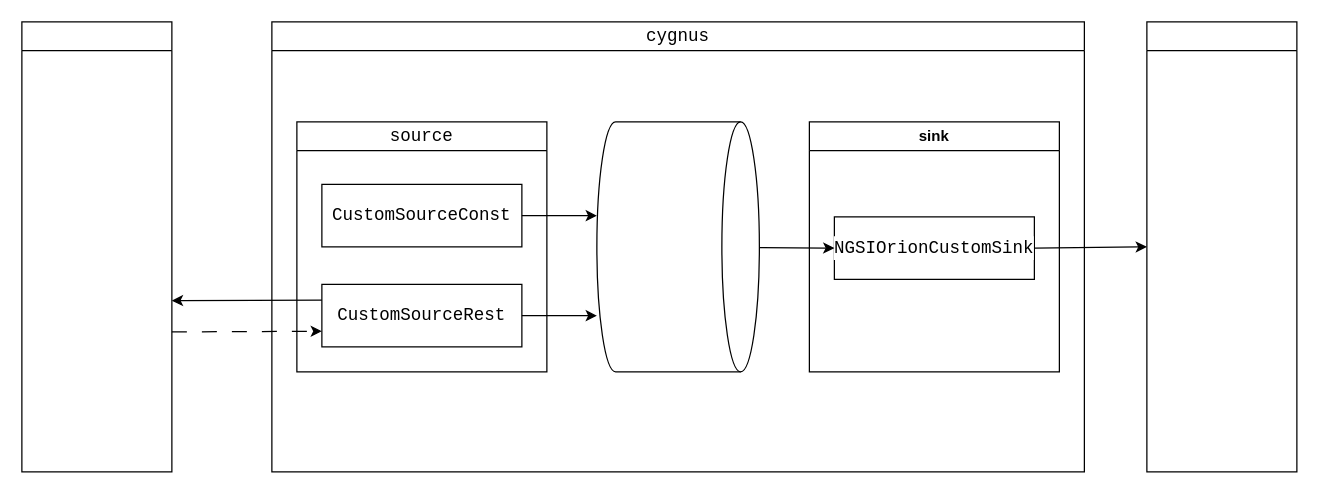
The diagram is 1319 pixels wide and 494 high, and some of its shapes have lost their labels. The shapes that lost their labels are listed below. From the top down, each one's centre as x and y in pixels, then its label:
At [96,246]: "webserver".
At [677,246]: "channel".
At [1221,246]: "orion".
